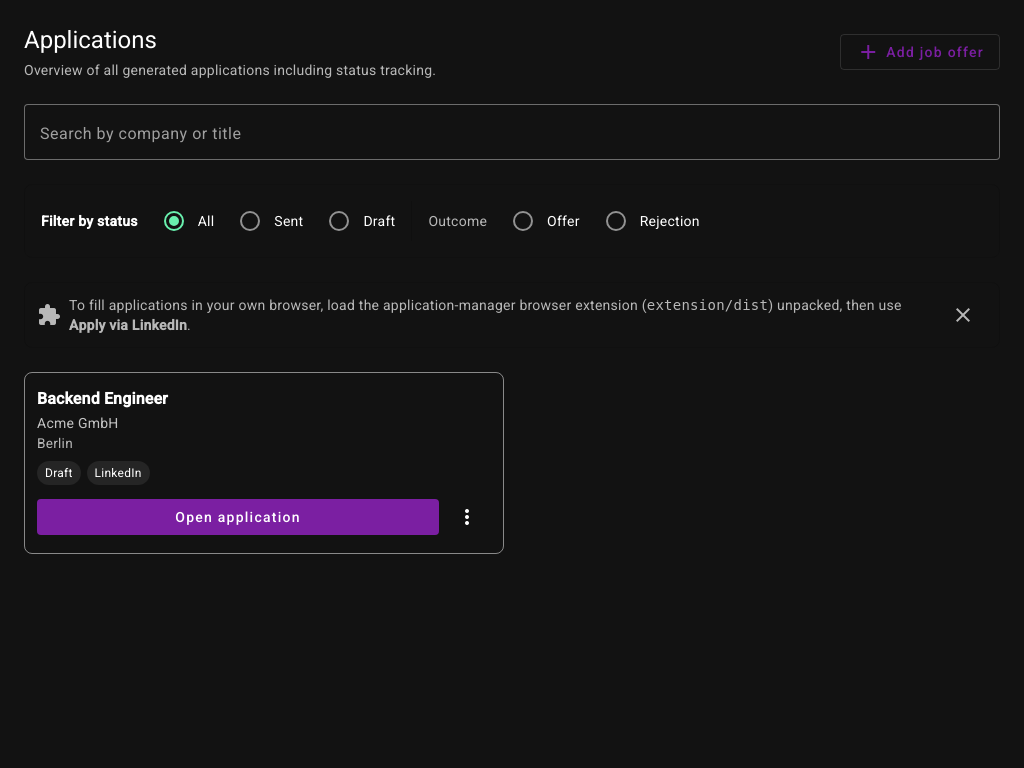
Test case: ApplicationsComponent › apply via LinkedIn (U4) › install hint › Covers R17/KTD9: hides the hint after it is dismissed and persists the dismissal
Expected: the element with class "applications__install-hint" is shown, [24,282,1000,348]
Click the button named "Dismiss install hint" at (963, 315), box [939,291,987,339]
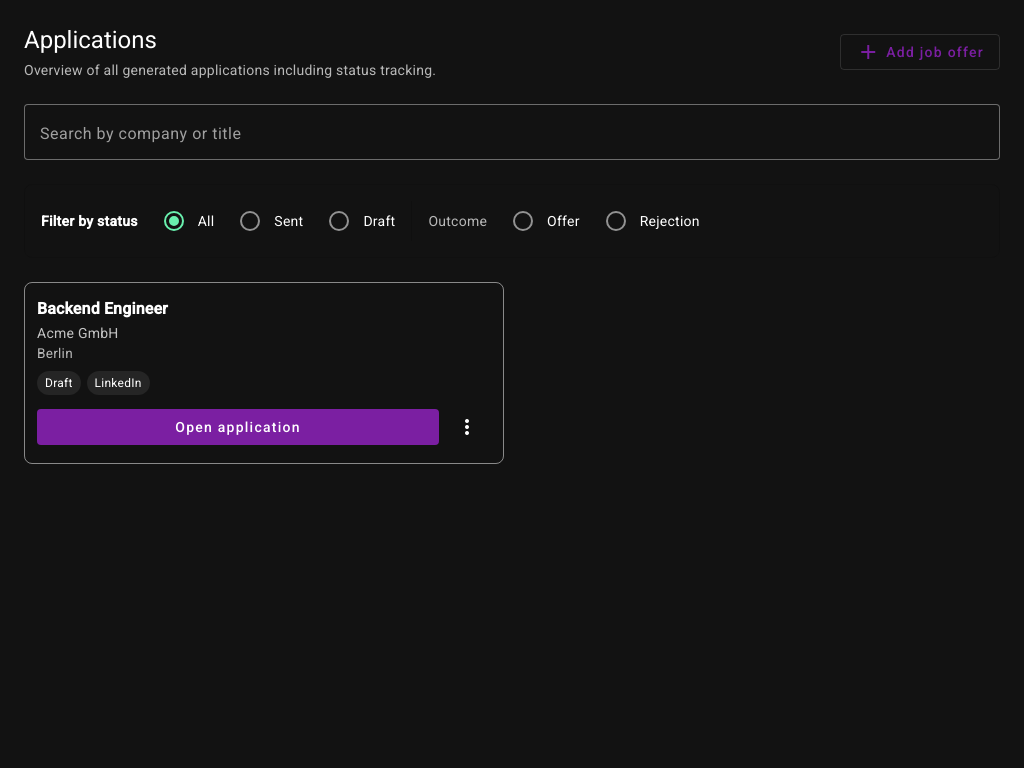
Now the element with class "applications__install-hint" is gone
